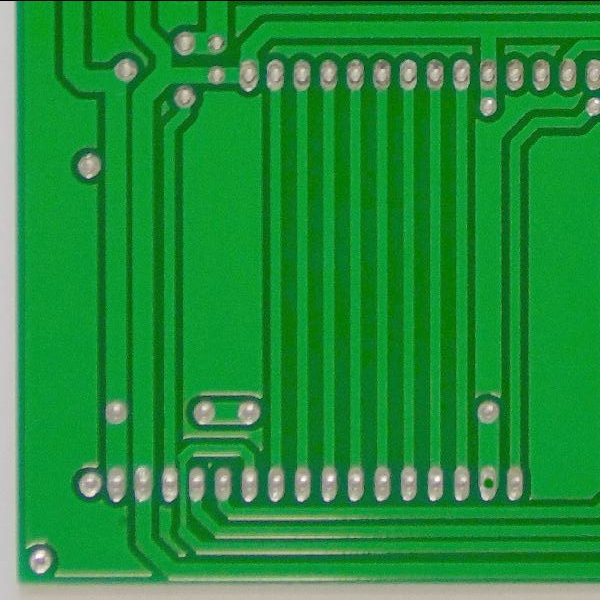missing_hole: (473, 471, 502, 498)
